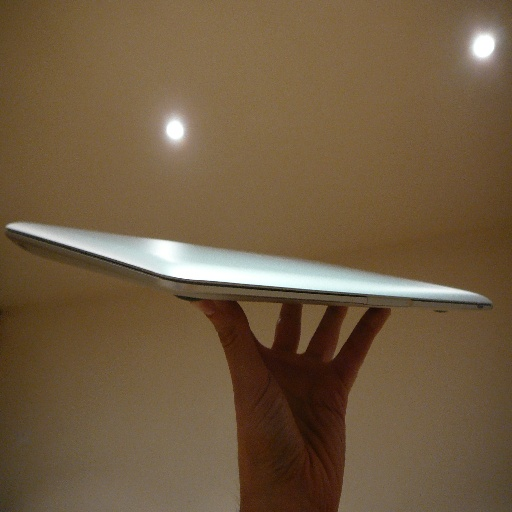hand: (189, 292, 394, 511)
